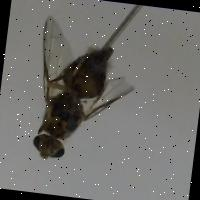Oriental-fruit-fly: (20, 7, 144, 174)
